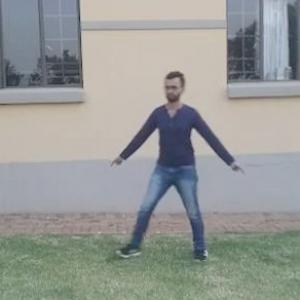land: (118, 72, 244, 245)
